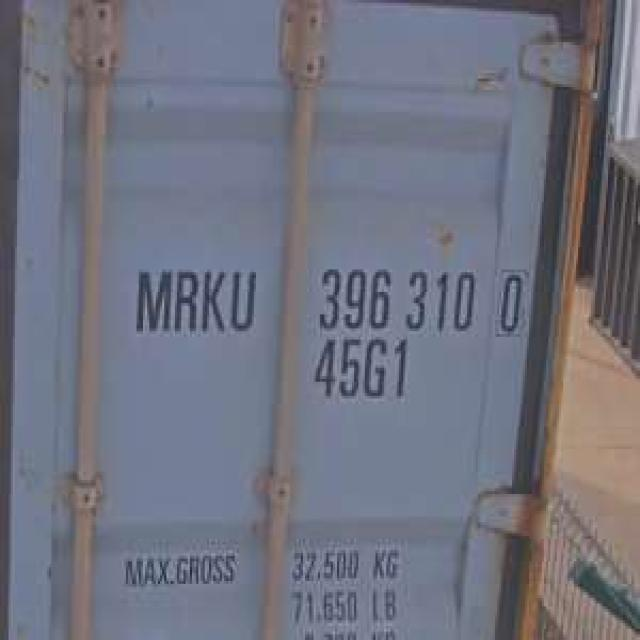dv: (489, 262, 530, 340)
owner: (130, 258, 264, 340)
serial: (312, 261, 479, 335)
size: (310, 336, 413, 408)
